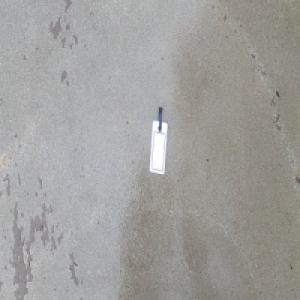LuggageTag: (148, 105, 168, 176)
